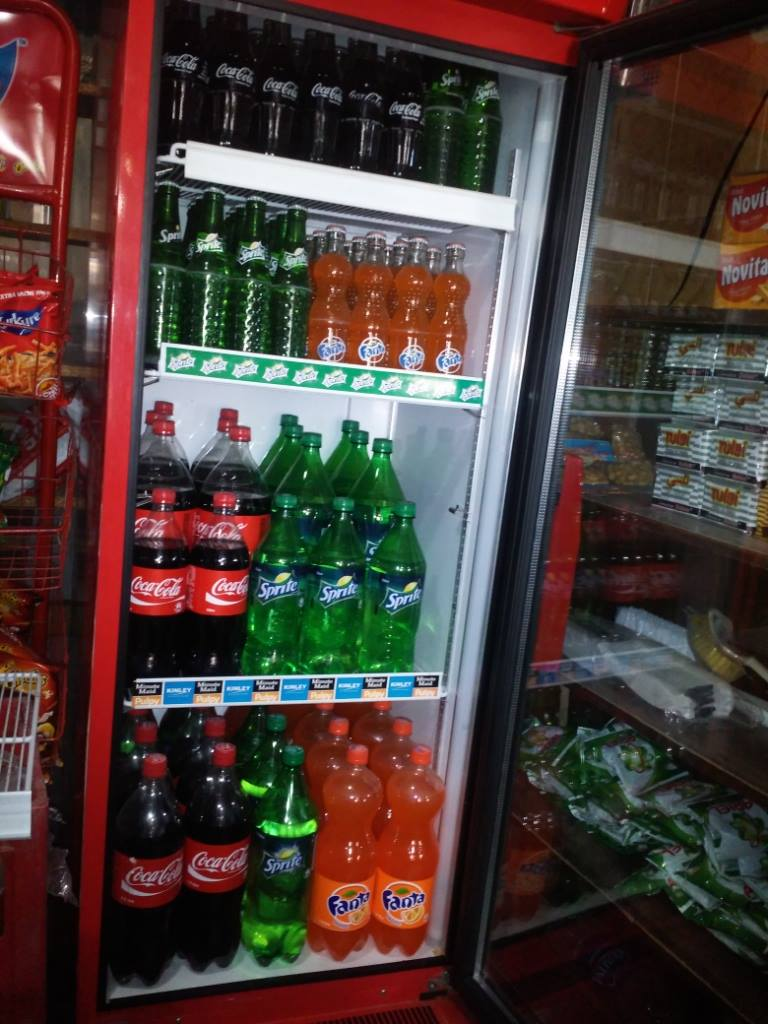cocacola: (190, 846, 249, 873), (124, 860, 182, 887), (131, 575, 183, 600), (214, 60, 255, 88), (262, 75, 298, 101), (387, 96, 422, 120), (310, 80, 342, 105)
fanta: (326, 892, 371, 917), (380, 888, 426, 912), (354, 339, 388, 361), (316, 340, 347, 360), (399, 349, 426, 367), (435, 353, 462, 369)
sprite: (256, 579, 300, 602), (318, 581, 359, 605), (381, 587, 422, 611), (262, 855, 304, 876), (284, 251, 308, 273), (473, 84, 499, 104), (238, 246, 265, 264), (195, 239, 224, 255)
